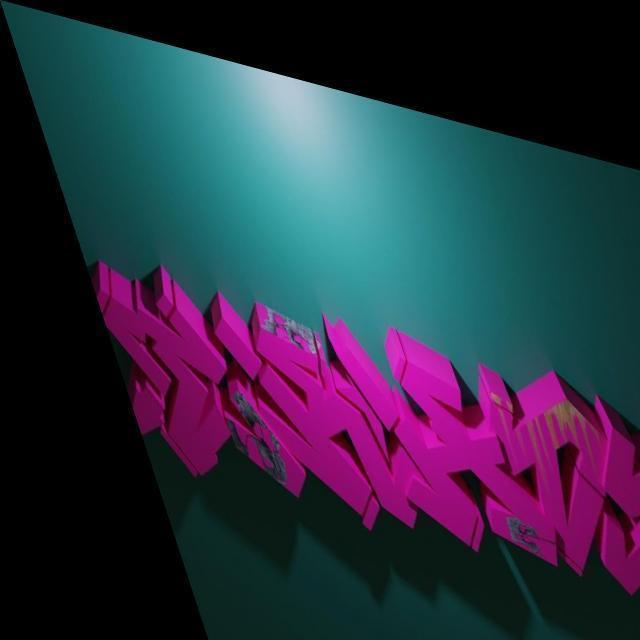nonspitting: (93, 262, 640, 596)
